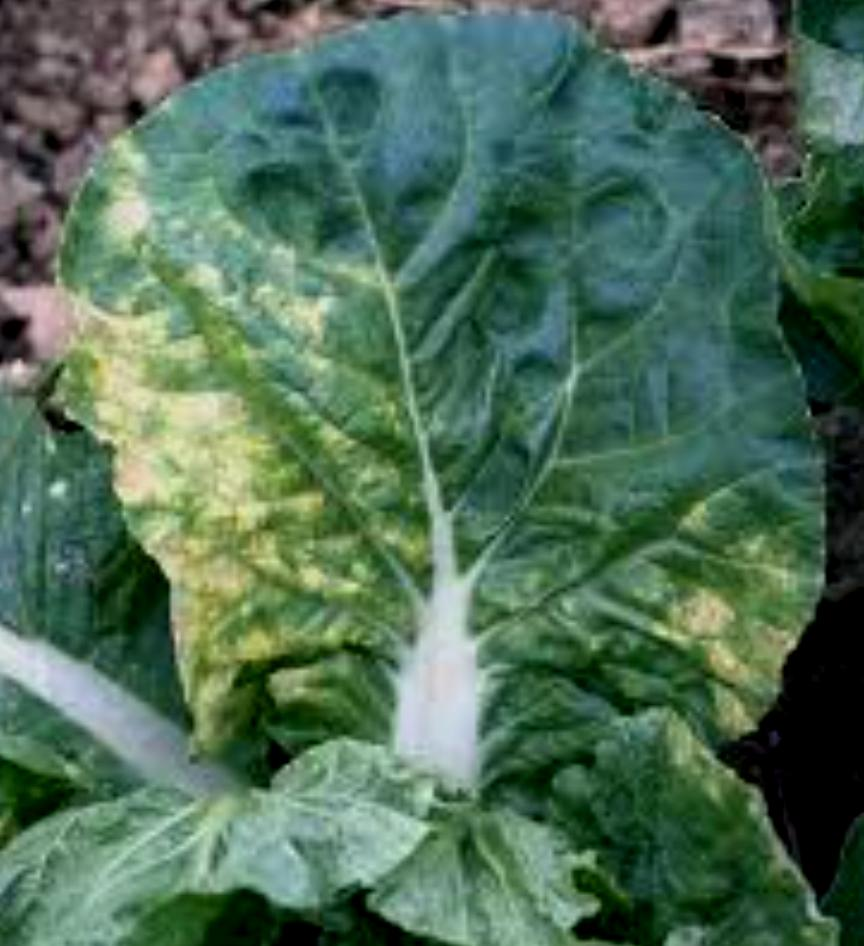Bok-Choy-Diseased: (98, 15, 816, 775)
